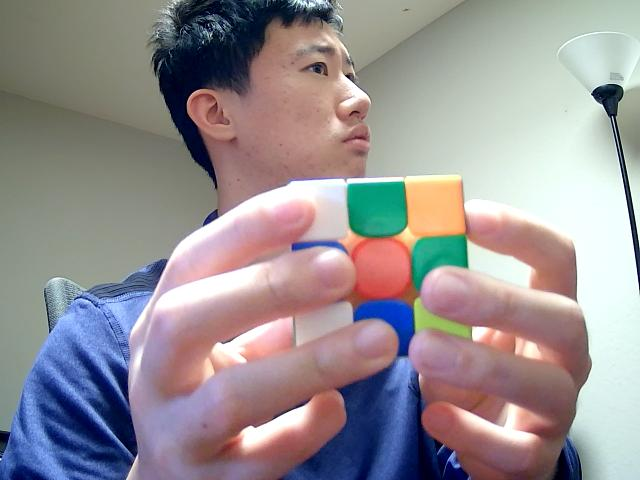Rubiks-Cube: (278, 174, 478, 358)
